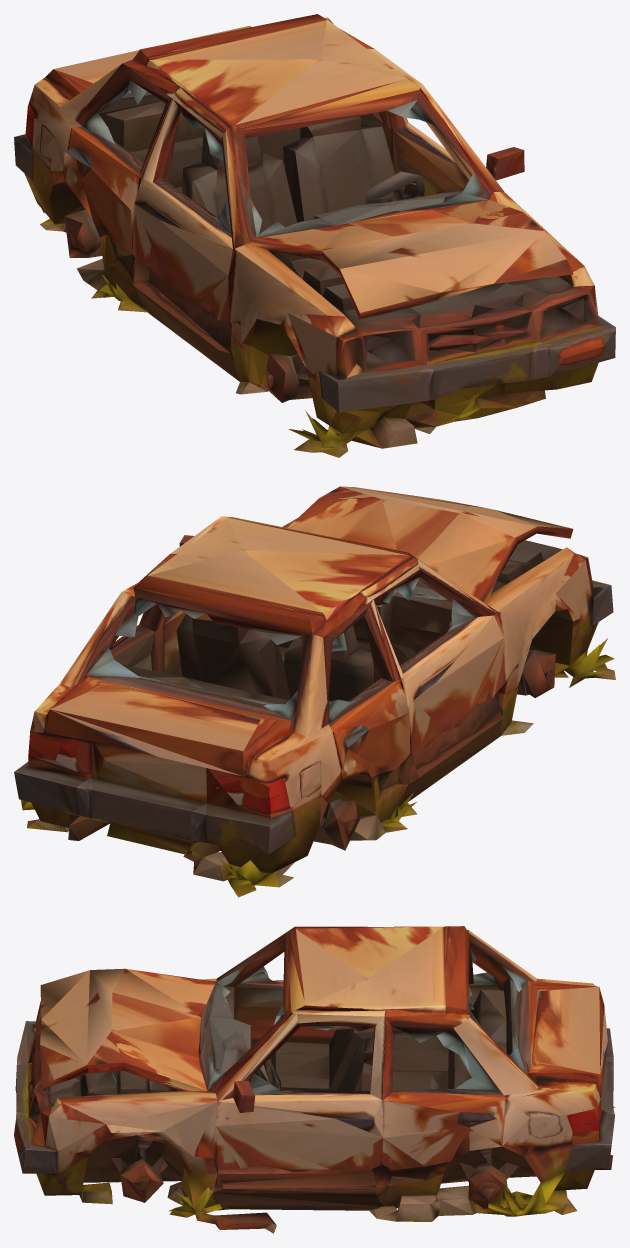
File: CC_prop_Abandoned_Car.fbx
The picture shows the model from 3 angles, top to bottom: view 1: azimuth 30°, elevation 25°; view 2: azimuth 150°, elevation 25°; view 3: azimuth 270°, elevation 25°; orthographic projection. The views are drawn at different scales.
Visible parts, largest first — view 1: CC_prop_Abandoned_Car_LOD0; view 2: CC_prop_Abandoned_Car_LOD0; view 3: CC_prop_Abandoned_Car_LOD0.
Boxes of the visible parts, x1,y1,x2,y2 form: CC_prop_Abandoned_Car_LOD0: (14, 14, 615, 457); CC_prop_Abandoned_Car_LOD0: (14, 486, 615, 897); CC_prop_Abandoned_Car_LOD0: (14, 926, 615, 1233).
Size of what is drawn, in the model's own units: 2.48 by 1.48 by 4.19.
